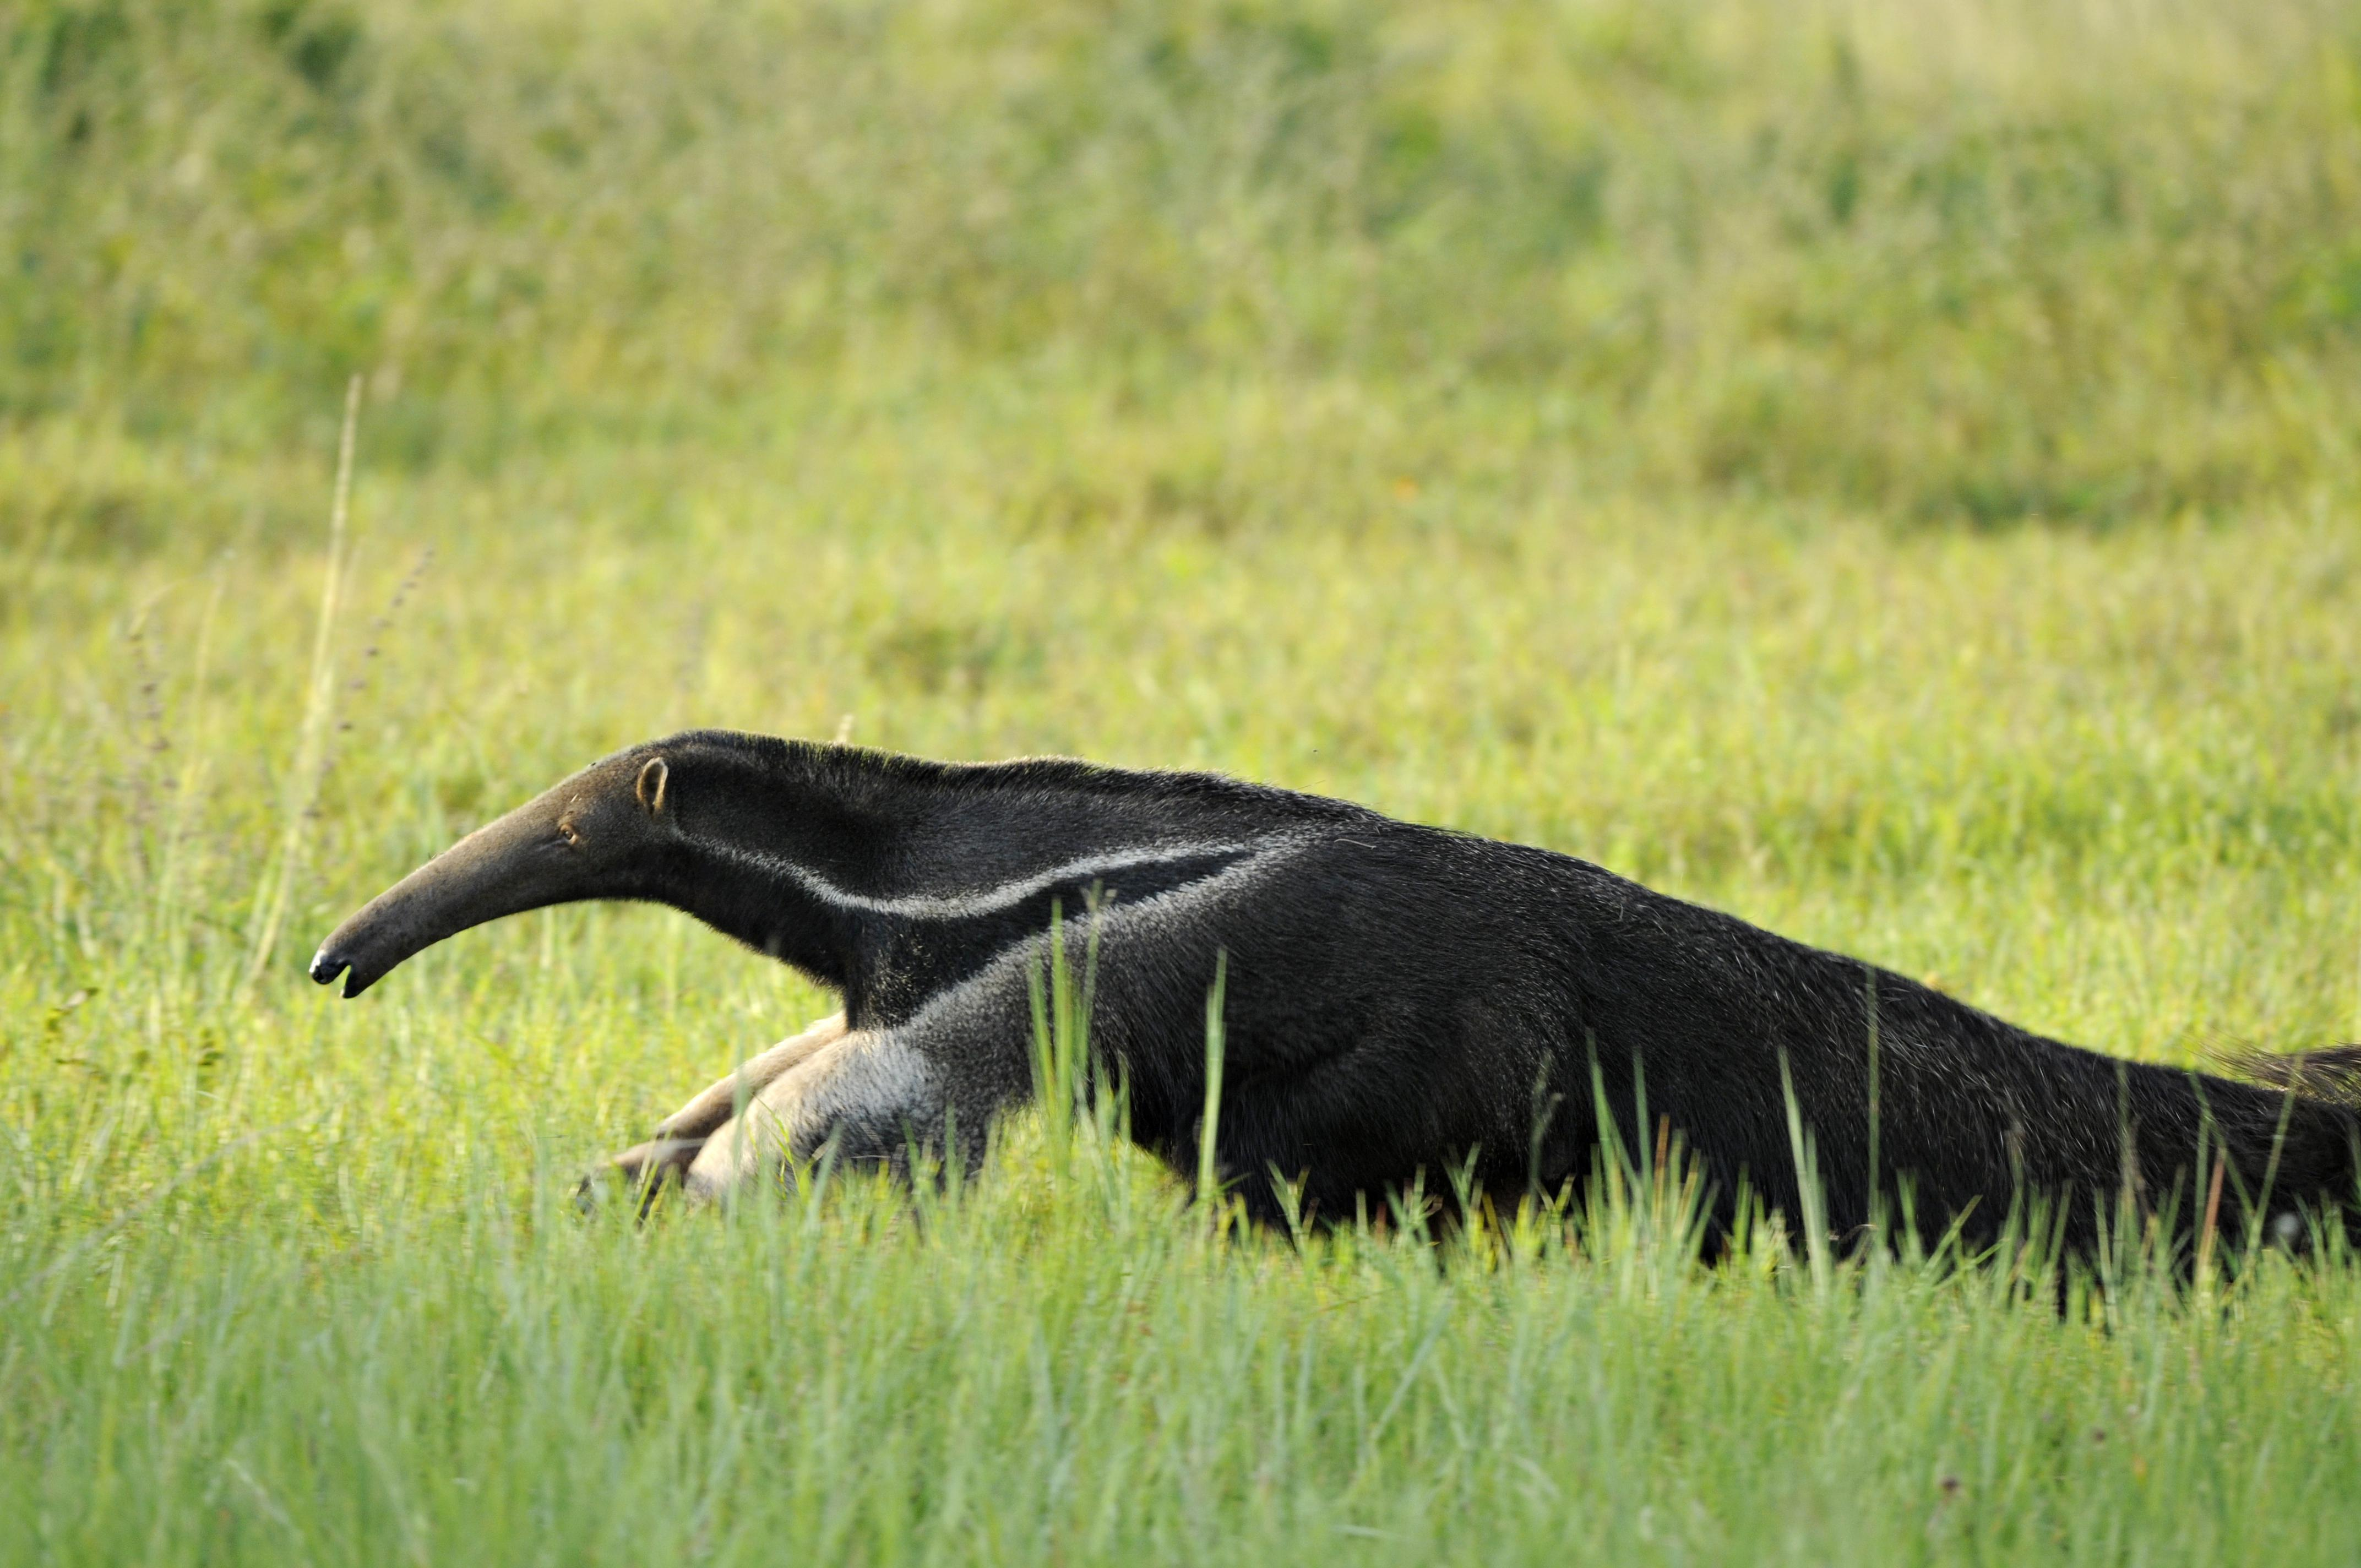TamanduaBandeira: (289, 712, 2338, 1293)
